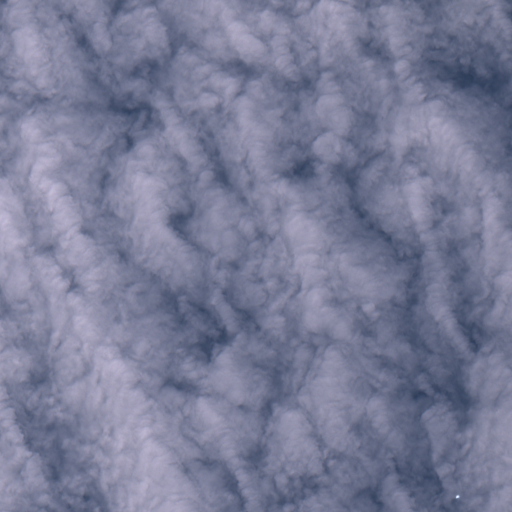Iceberg: (456, 495, 459, 497)
